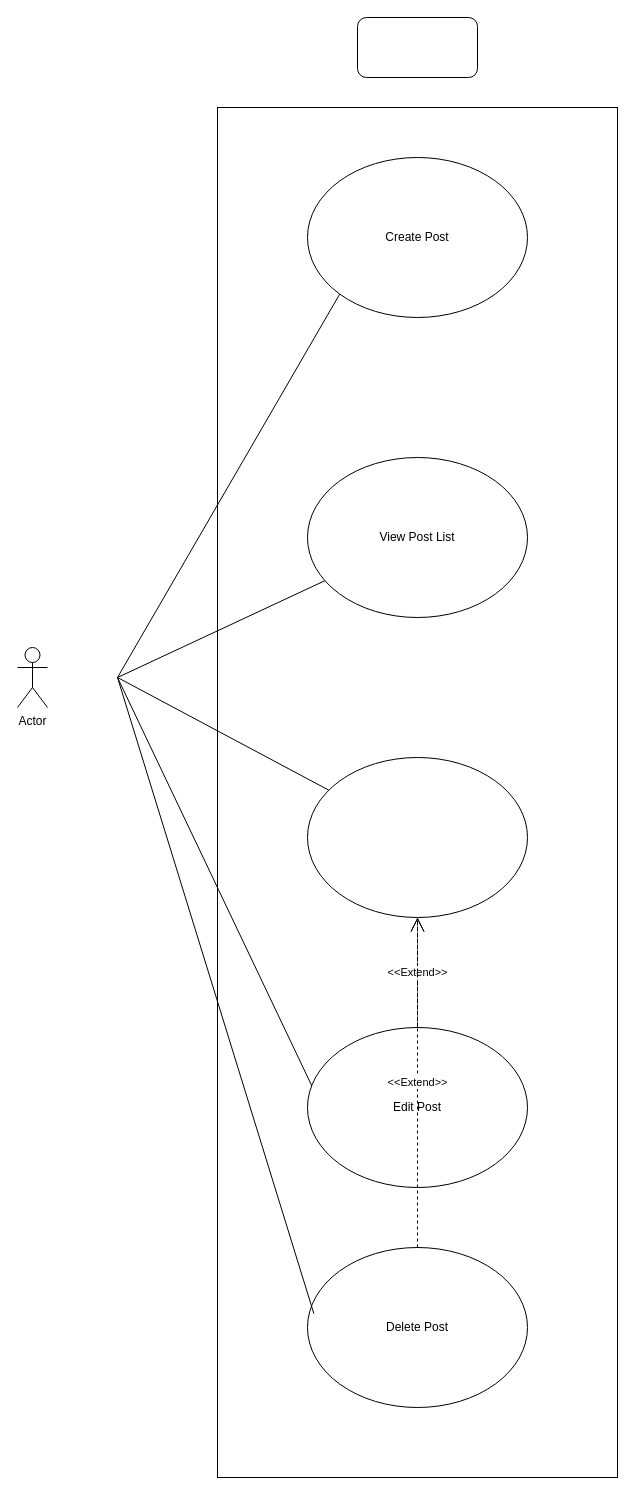
The diagram is 635 pixels wide and 1495 high, and some of its shapes have lost their labels. Each missing label, with the centre of its shape:
"Sticky Notes Application" belongs at (x=417, y=47).
"View Post Detail" belongs at (x=417, y=837).
